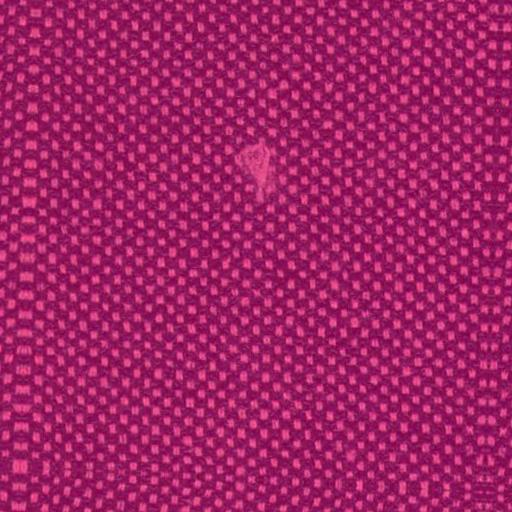knot: (226, 135, 288, 208)
